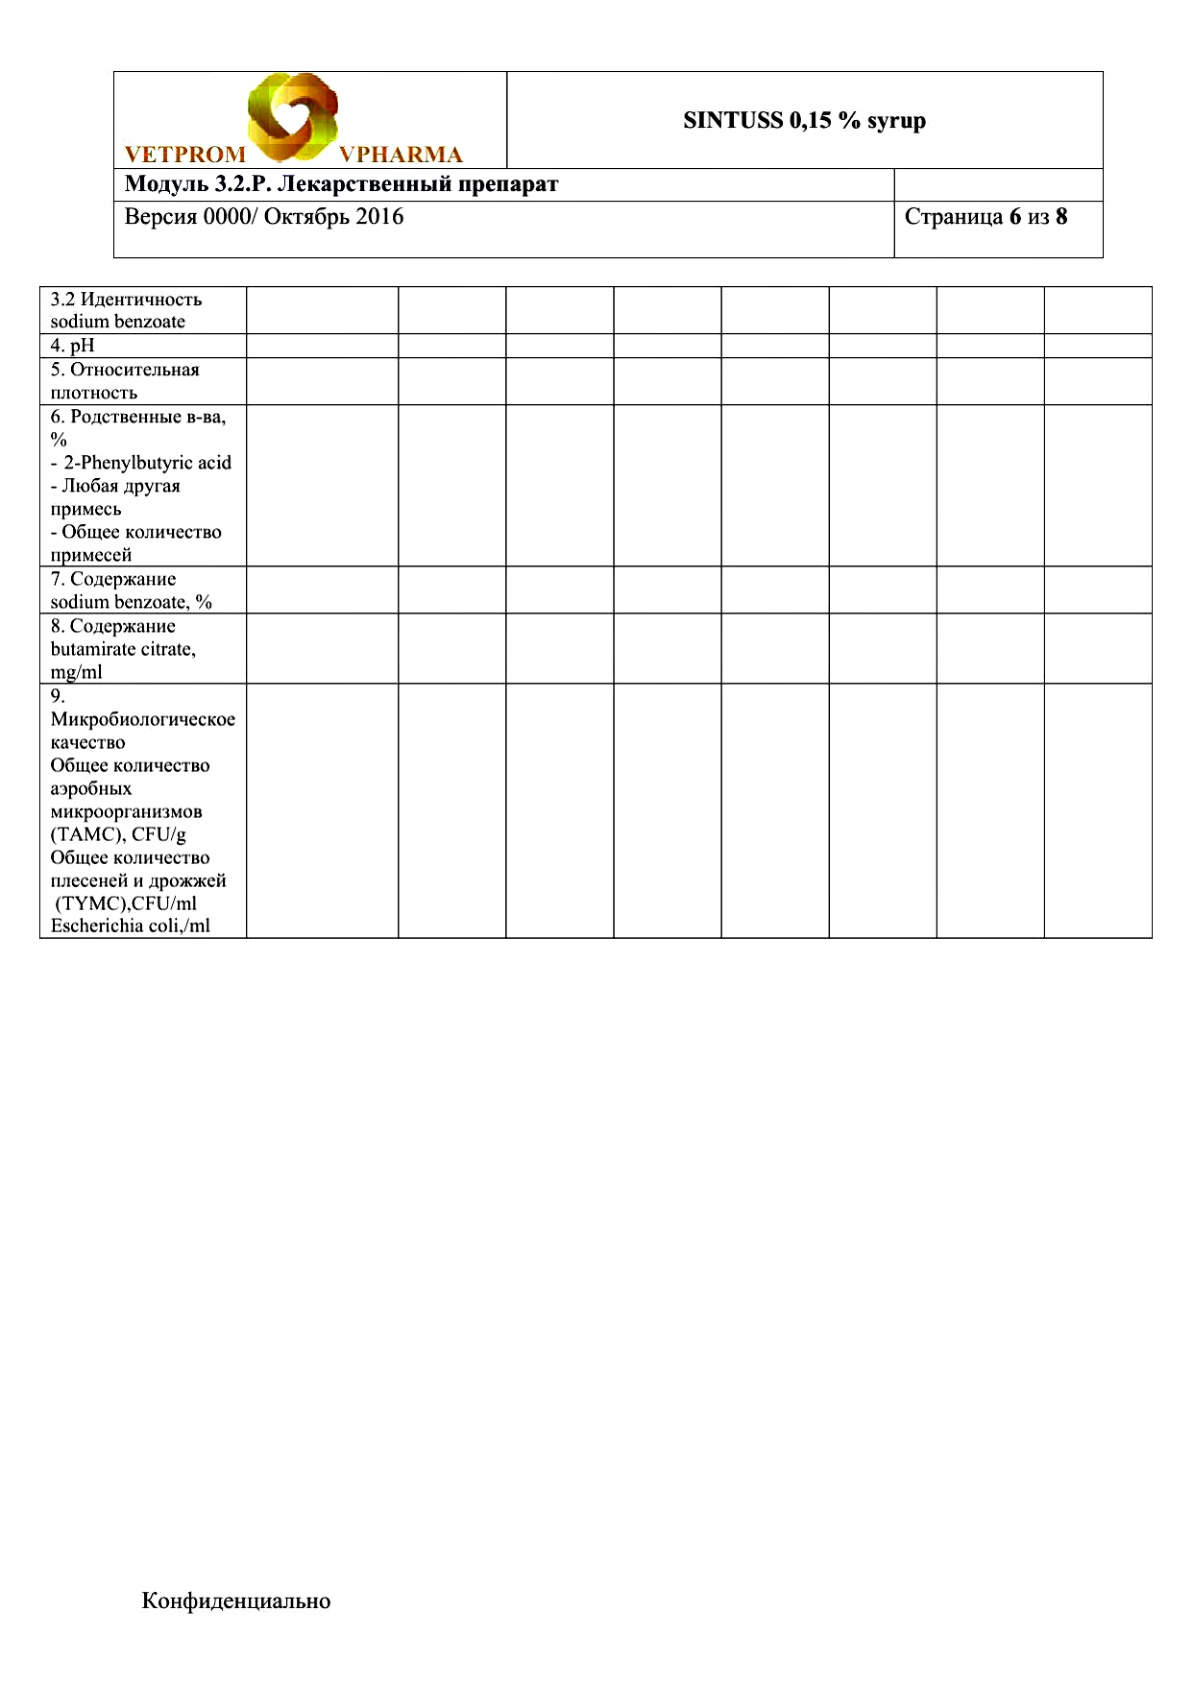full_lined: (37, 285, 1154, 941)
merged_cells: (111, 70, 1105, 260)
